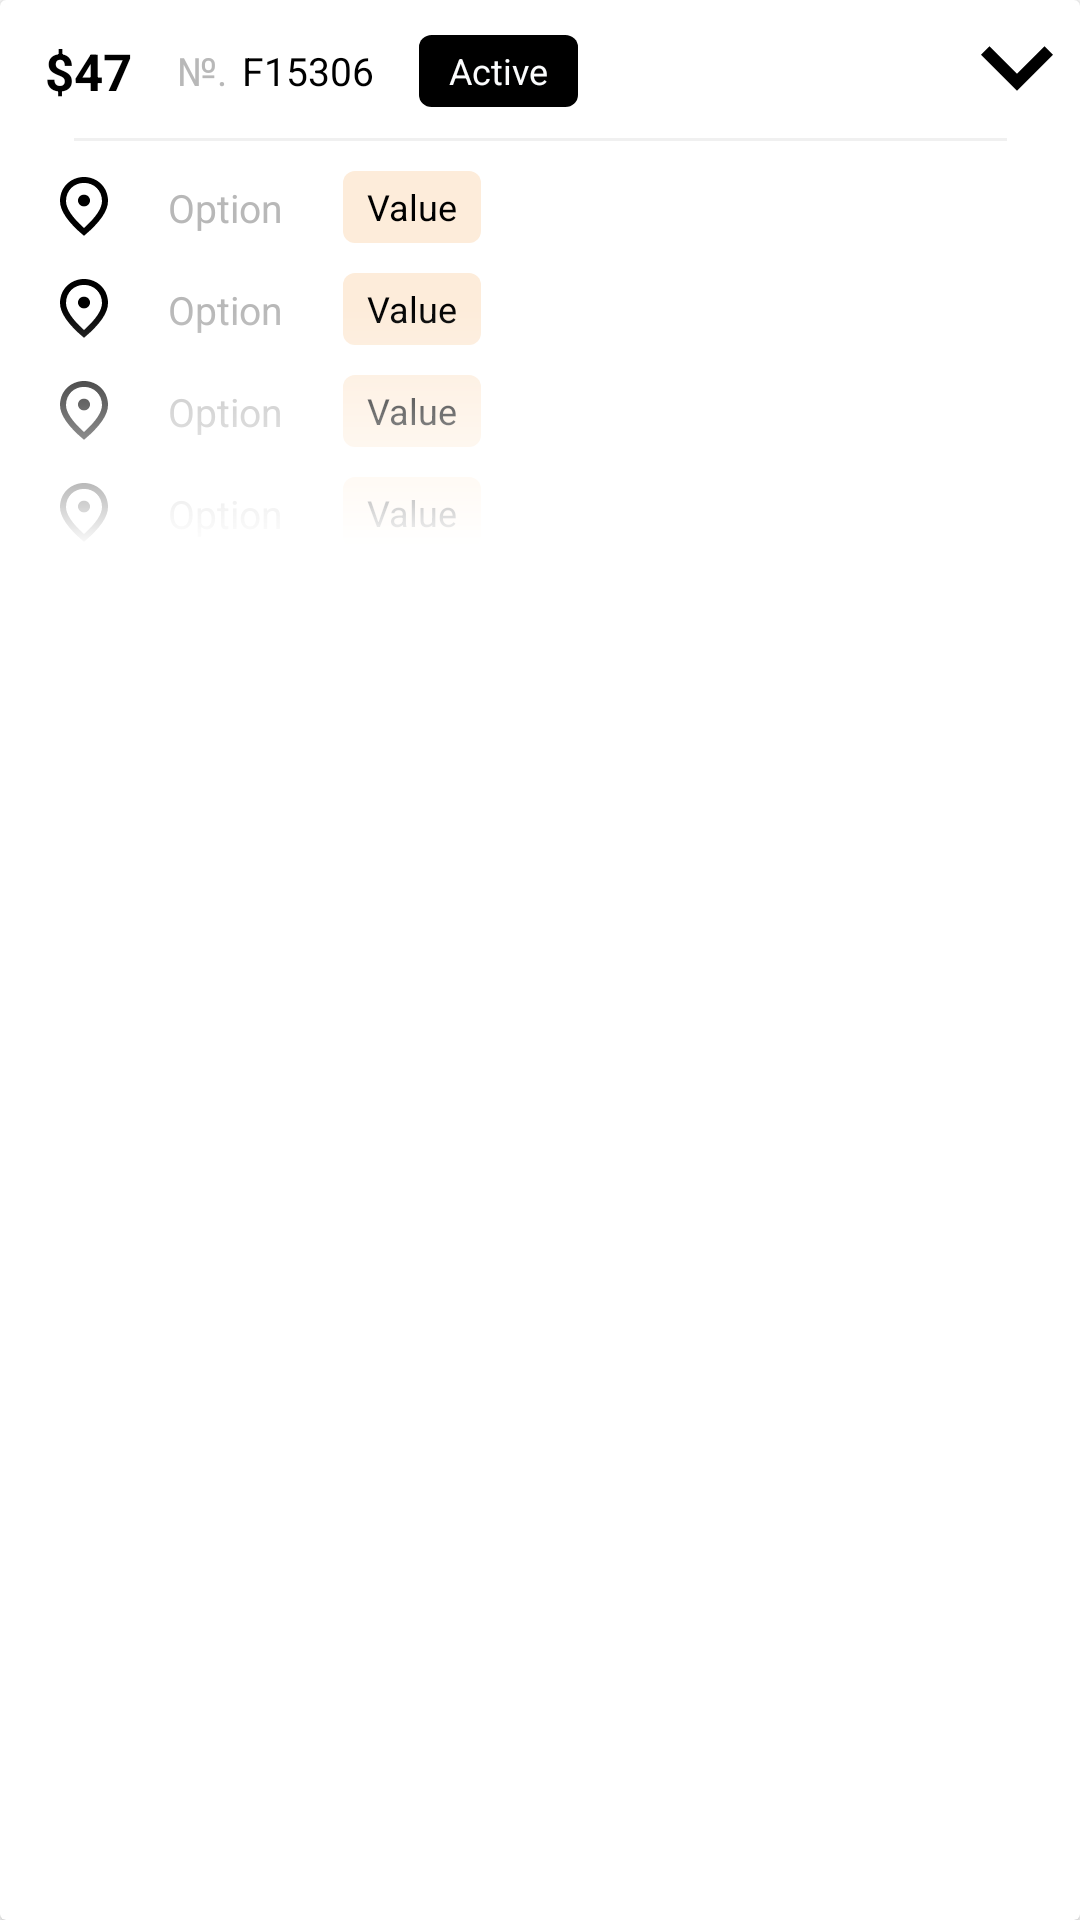

Point at icon controls on the screen. Image size 1080 x 1920, points as (x=x, y=y).
chevron down: (x=1017, y=68)
